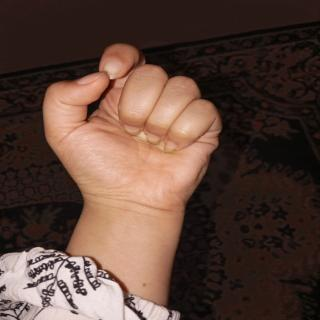FAA: (36, 38, 231, 220)
